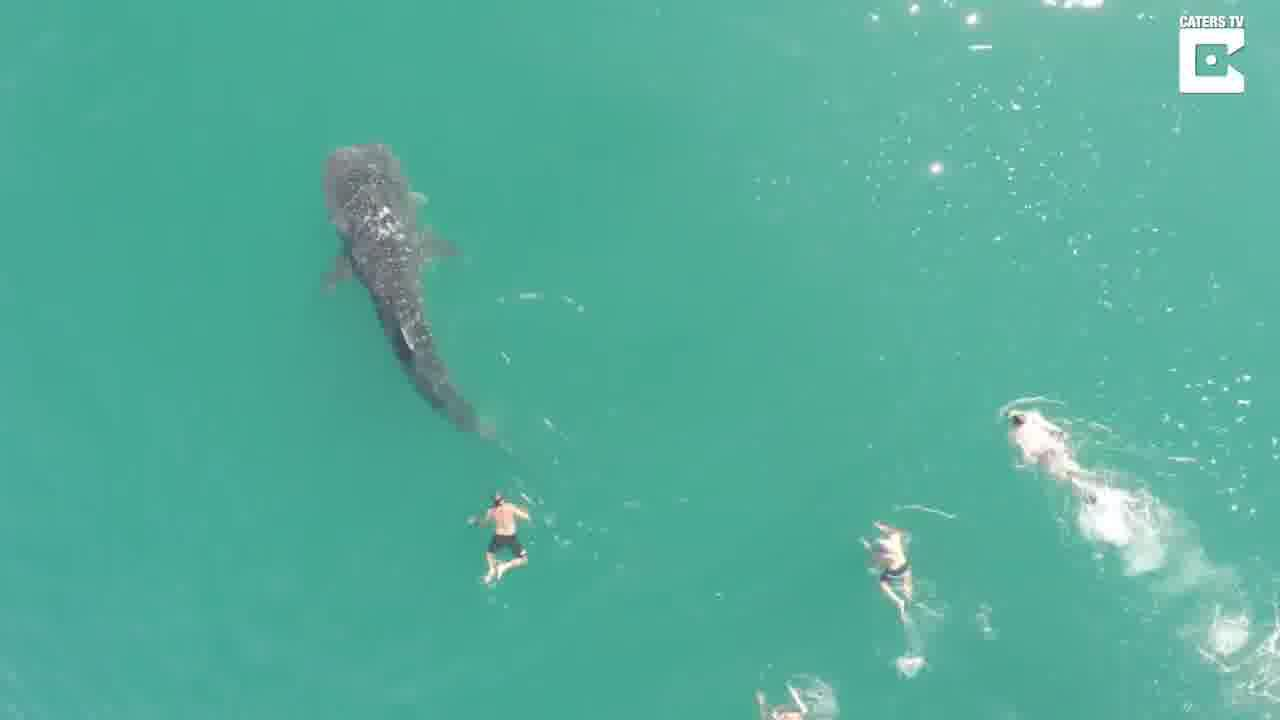human: (464, 489, 538, 592), (857, 519, 923, 628)
